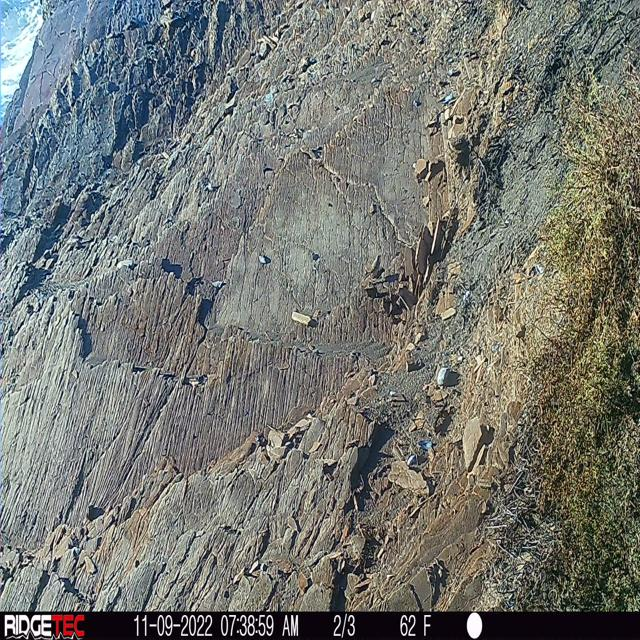bird: (368, 259, 381, 284)
